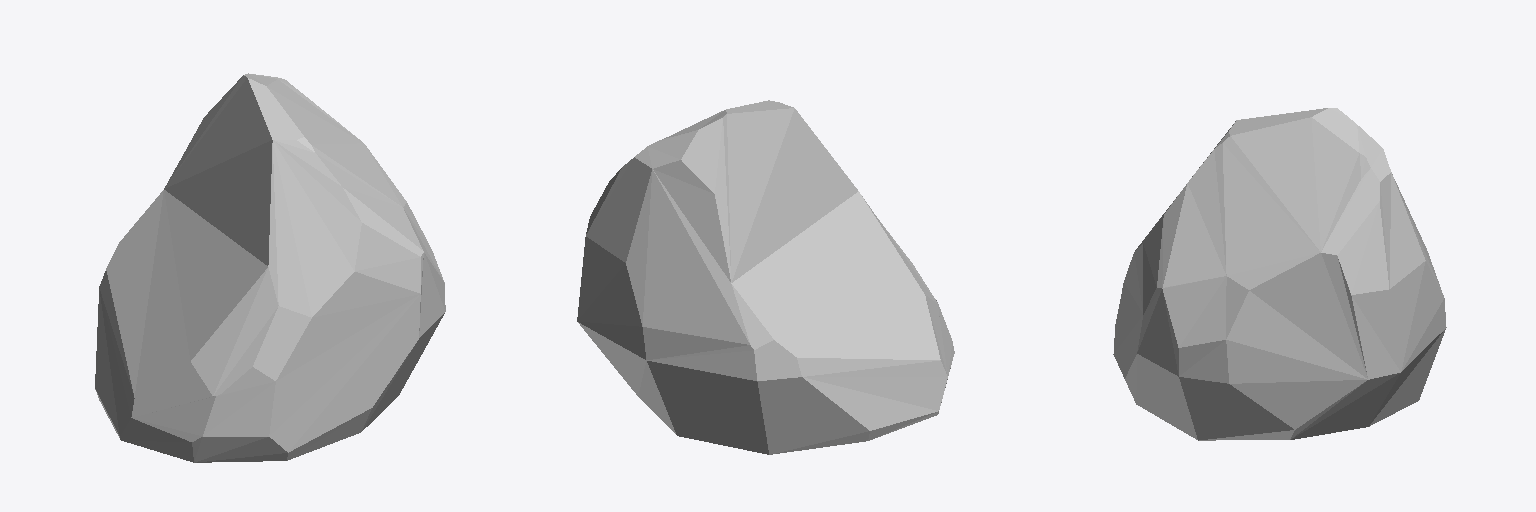
Rendered from rock3.obj.
The picture shows the model from 3 angles: view 1: azimuth 30°, elevation 25°; view 2: azimuth 150°, elevation 25°; view 3: azimuth 270°, elevation 25°; orthographic projection.
Parts seen in each view (by area): view 1: mesh_0; view 2: mesh_0; view 3: mesh_0.
Part boxes in pixels (left/top/right/bottom): mesh_0: left=95, top=73, right=445, bottom=462; mesh_0: left=577, top=100, right=954, bottom=454; mesh_0: left=1113, top=108, right=1446, bottom=440.
Size of the model in its own units: 17.66 by 17.16 by 16.57.